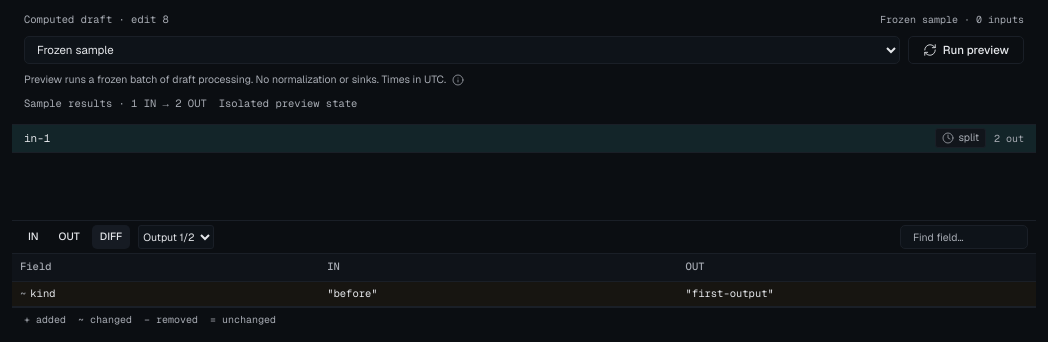
Runtime preview outcomes › shows runtime split lineage and lets users inspect each output
This screenshot has width=1048, height=342.
Expected: the text "Sample results · 1 IN → 2 OUT" is shown, [24,96,207,112]
Select "Output 2/2" in the dropdown named "Output event" at x=176, y=236, box [138,224,214,248]
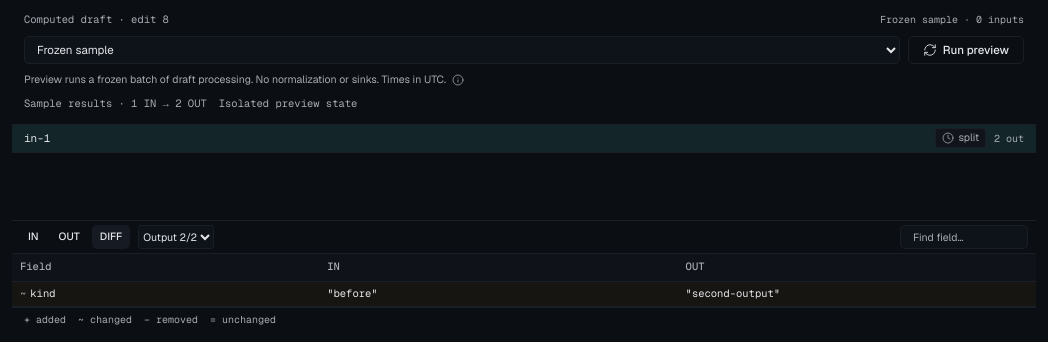
Expected: the text "\"second-output\"" is shown, [678,282,1036,306]
Expected: the text "\"first-output\"" is gone
